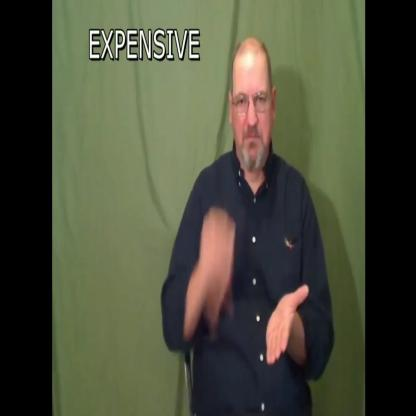Expensive: (162, 33, 334, 416)
